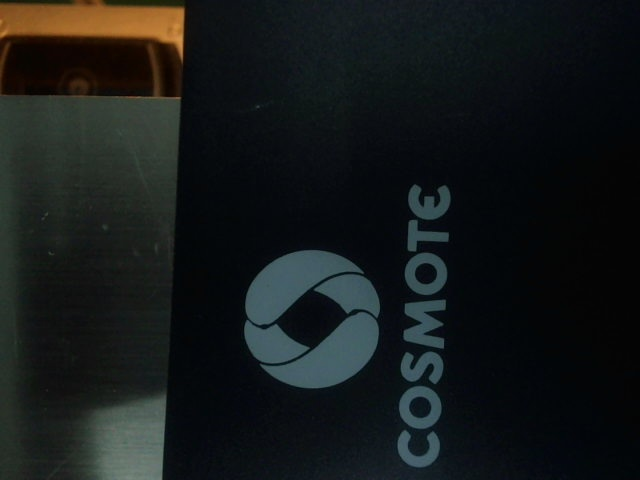AU_COSMOTE: (232, 172, 459, 469)
